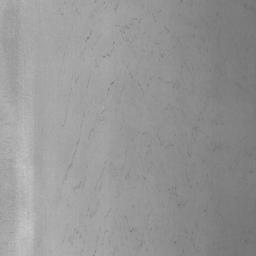Silk spot: (157, 112, 203, 148), (73, 162, 118, 191), (62, 226, 96, 256), (112, 18, 142, 48), (126, 227, 147, 251), (168, 184, 188, 208), (76, 125, 94, 145), (82, 31, 96, 54), (94, 0, 119, 12)
